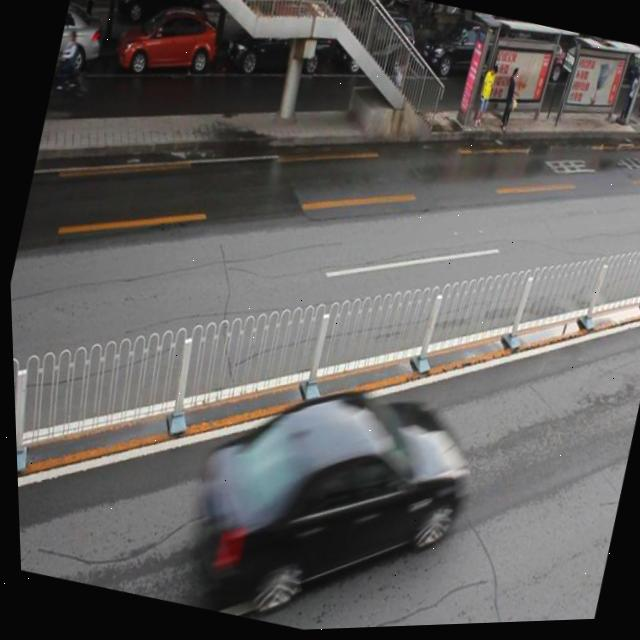car: (164, 354, 485, 636), (222, 5, 339, 93), (113, 0, 226, 90), (333, 7, 423, 92), (414, 15, 508, 95), (53, 5, 112, 78)
